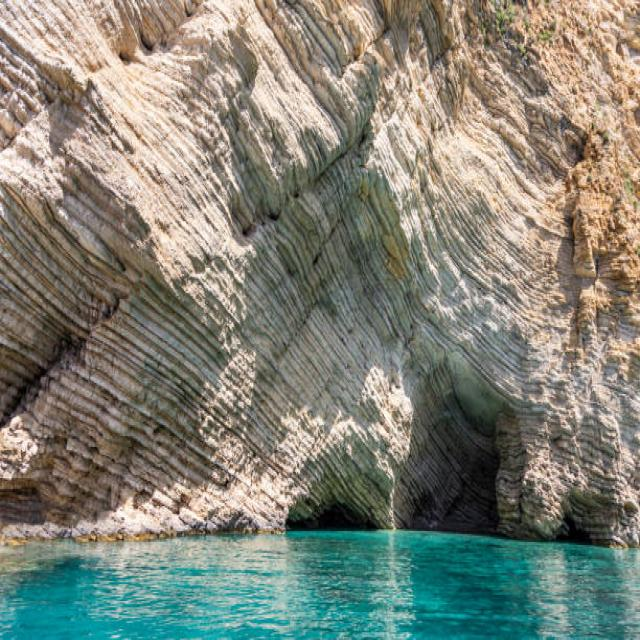Sedimentary: (1, 2, 639, 540)
